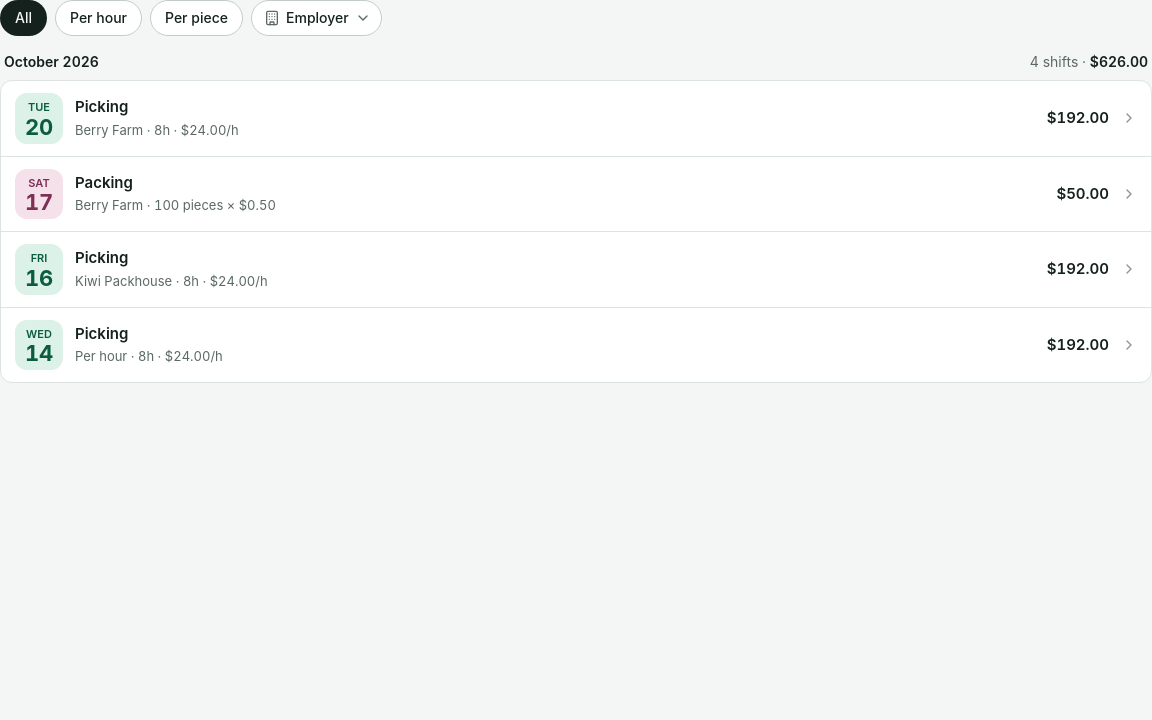
Test: Dashboard history › filters by employer and names it on each row
Expected: the number of buttons with test id "history-row" is 4, [1,81,1151,156]; [1,156,1151,231]; [1,232,1151,306]; [1,308,1151,382]
Expected: the text "Berry Farm · 8h · $24.00/h" is shown 2 times, [75,122,239,138]; [75,197,276,213]
Click the button with test id "history-employer-filter": (316, 18) [251,0,382,36]
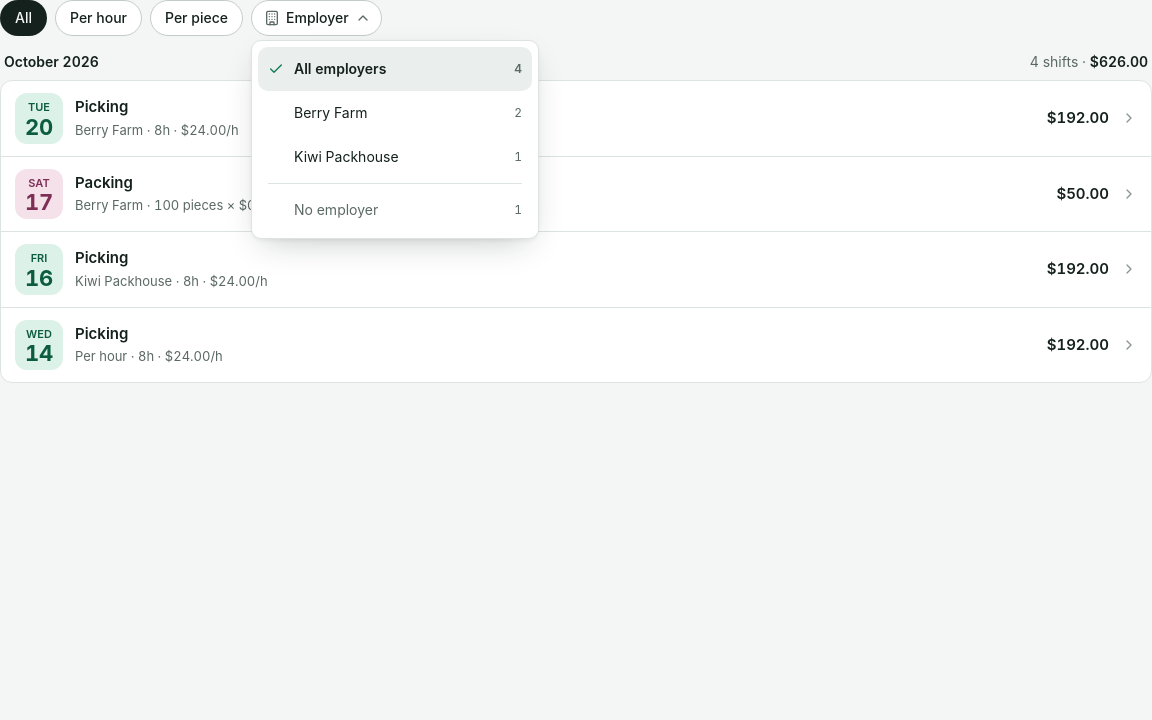
Click the option "Berry Farm 2": (331, 112) [258,91,532,135]
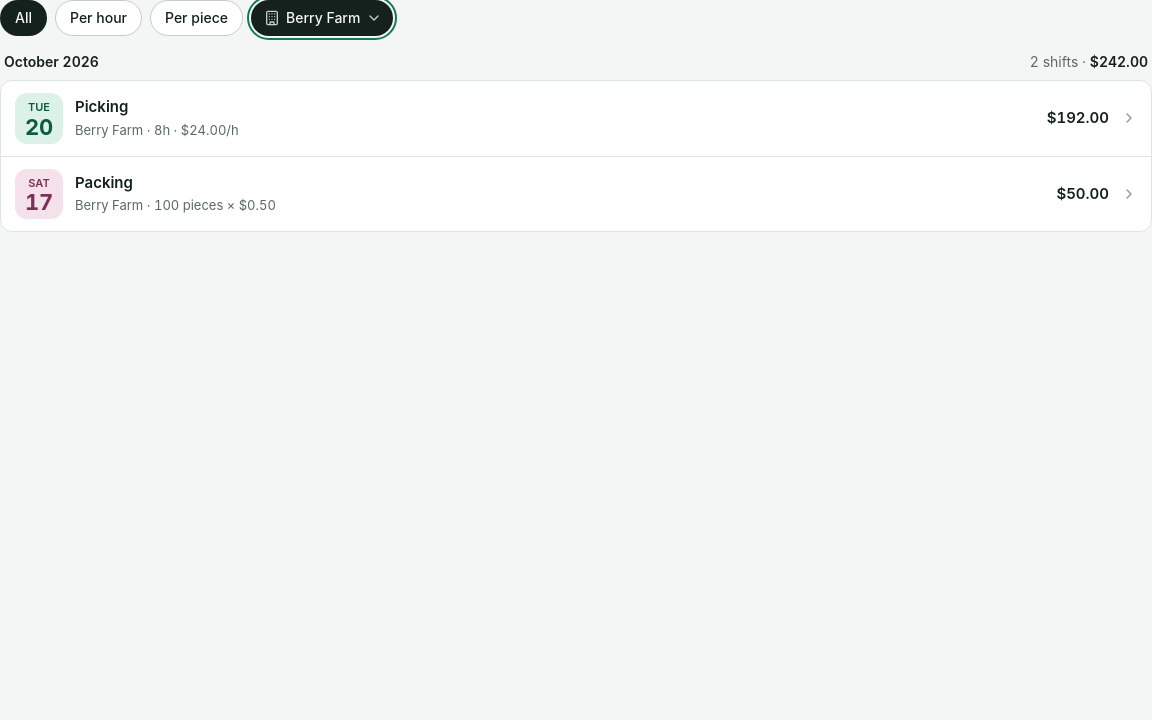
Expected: the number of buttons with test id "history-row" is 2, [1,81,1151,156]; [1,156,1151,231]
Click the button with test id "history-employer-filter": (322, 18) [251,0,393,36]
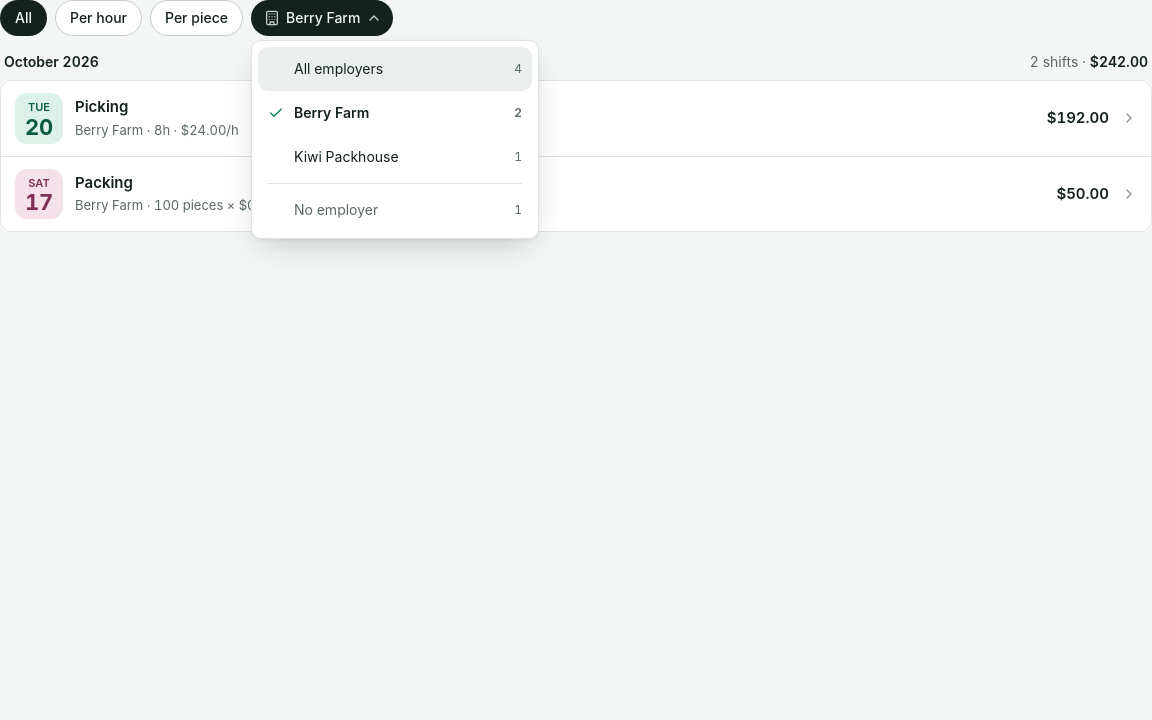
Click the option "No employer 1": (336, 210) [258,188,532,232]
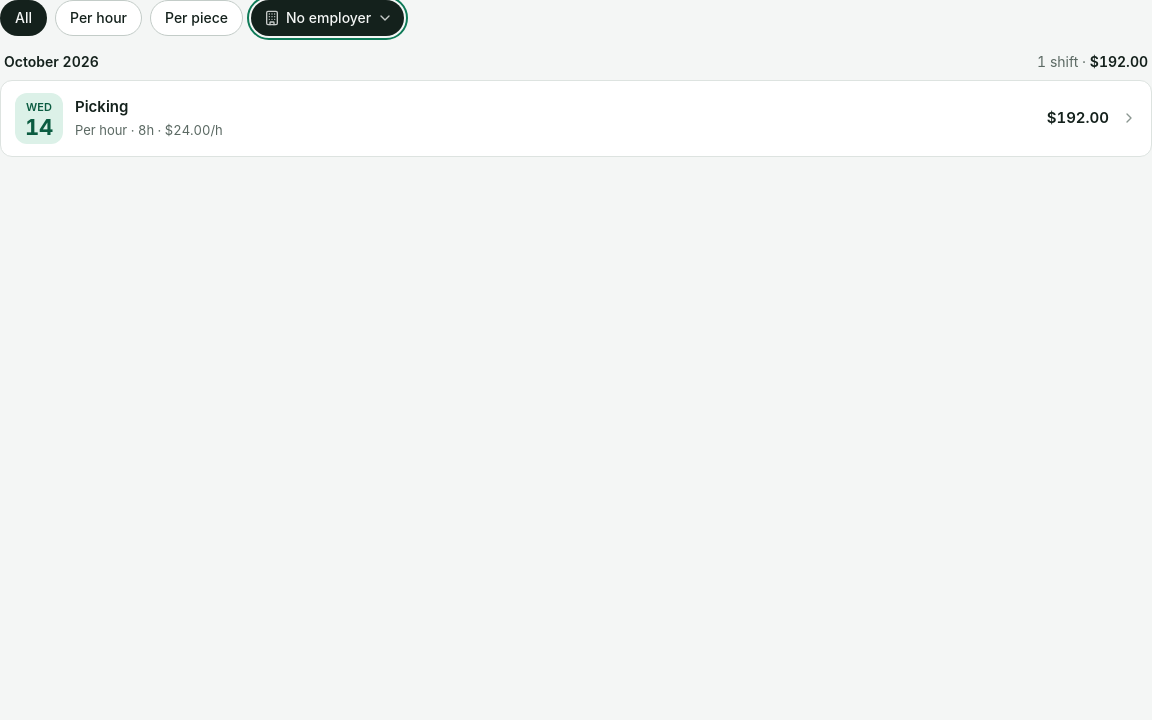
Expected: the number of buttons with test id "history-row" is 1, [1,81,1151,156]
